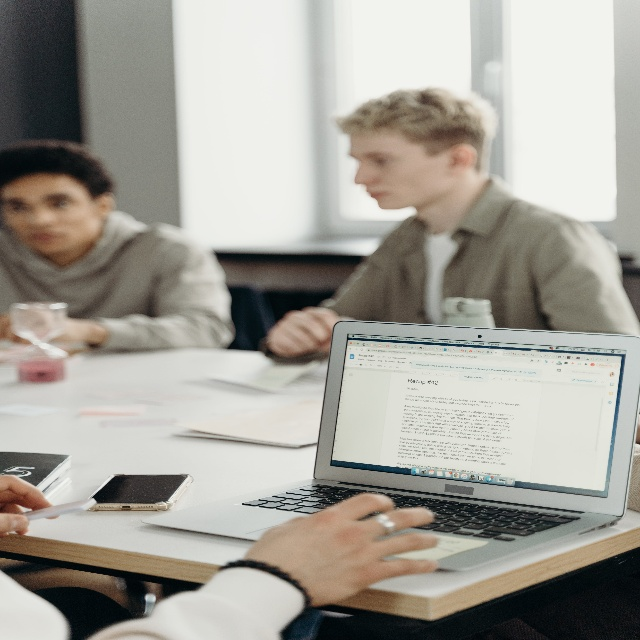Sin_guantes: (256, 480, 438, 607), (0, 473, 61, 547), (265, 307, 341, 362)
